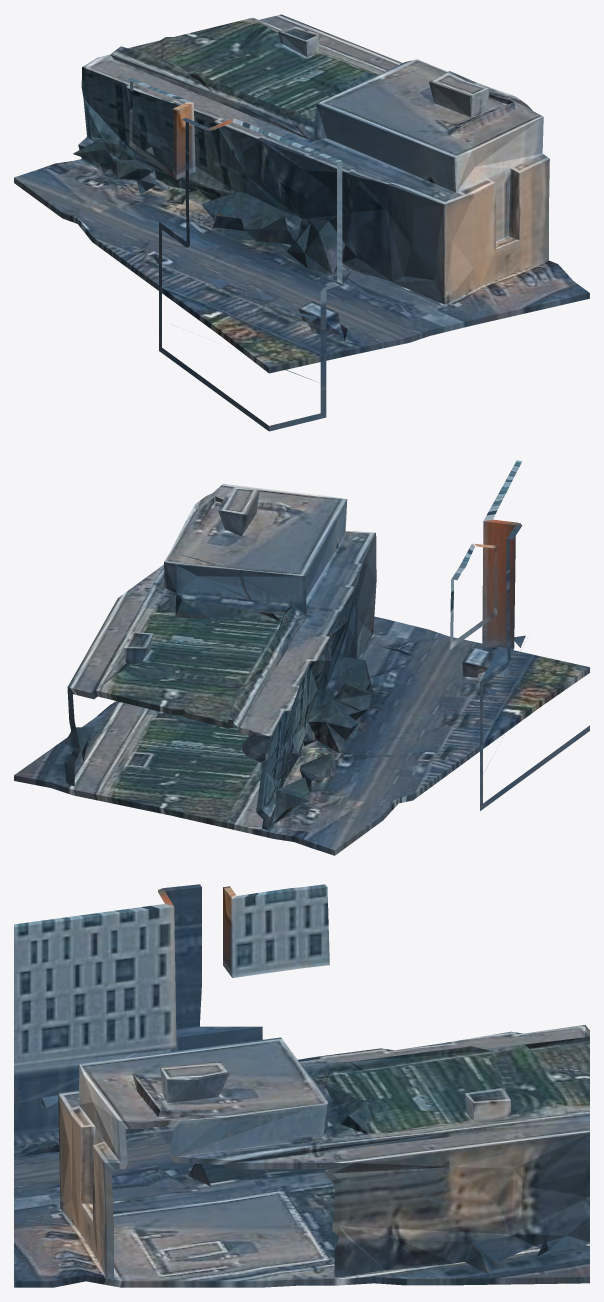
File: chunk_5_-3.glb
3 views of the same model, one above another, from view 1: azimuth 30°, elevation 25°; view 2: azimuth 150°, elevation 25°; view 3: azimuth 270°, elevation 25° (orthographic). The views are drawn at different scales.
Visible parts, largest first — view 1: hero-chunk; view 2: hero-chunk; view 3: hero-chunk.
Boxes of the visible parts, x1,y1,x2,y2 form: hero-chunk: (14,14,589,431); hero-chunk: (14,460,589,855); hero-chunk: (14,884,589,1287).
Size of the model in its own units: 56.35 by 41.74 by 76.32.
Materials: 2 (2 with a texture image).
